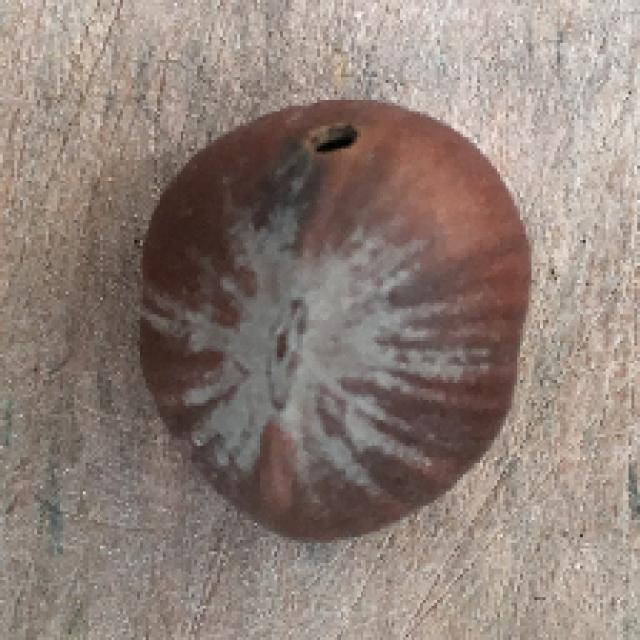damagedHazelnut: (126, 91, 544, 552)
